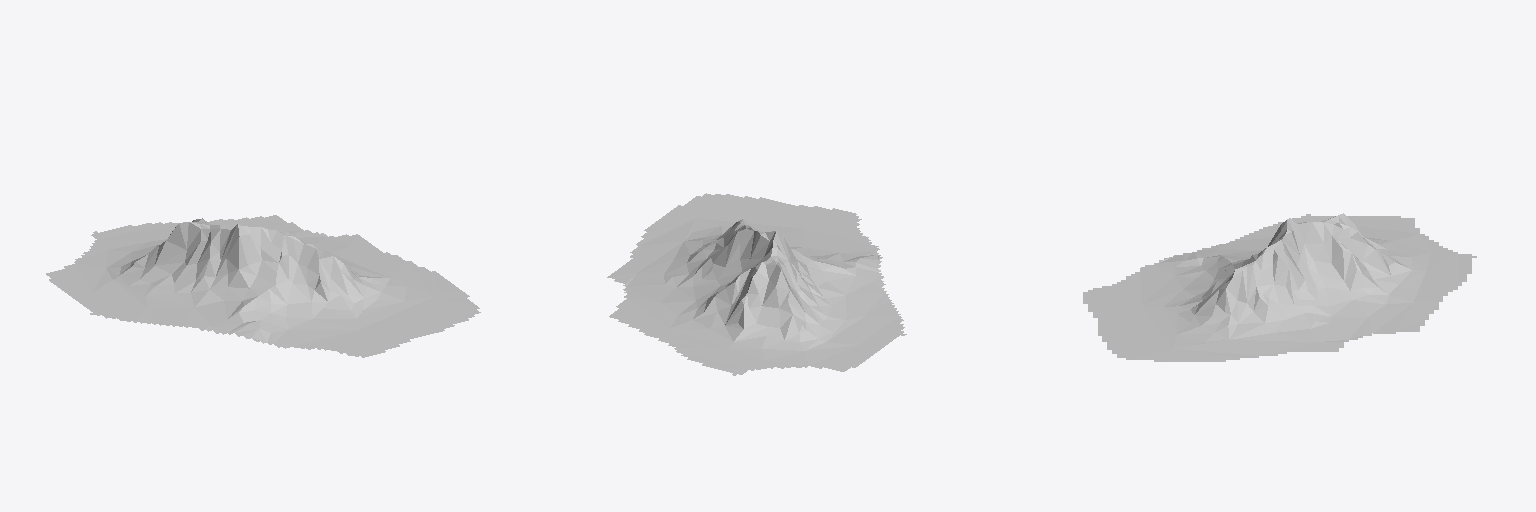
Rendered from mountaint.obj.
3 renders of one model, left to right at view 1: azimuth 30°, elevation 25°; view 2: azimuth 150°, elevation 25°; view 3: azimuth 270°, elevation 25°, orthographic.
Visible parts, largest first — view 1: Plane_Plane.001; view 2: Plane_Plane.001; view 3: Plane_Plane.001.
Boxes of the visible parts, x1=… form: Plane_Plane.001: x1=46, y1=215, x2=480, y2=357; Plane_Plane.001: x1=607, y1=193, x2=906, y2=375; Plane_Plane.001: x1=1083, y1=213, x2=1476, y2=361.
Size of the model in its own units: 29.64 by 5.98 by 33.24.